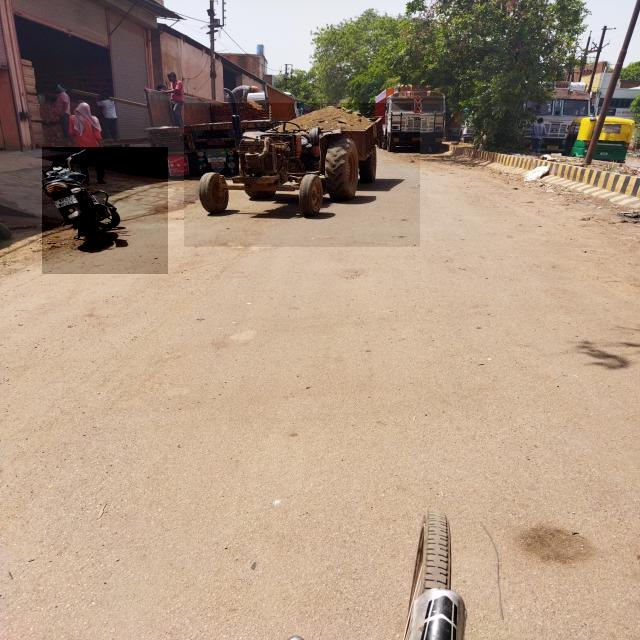Bike: (42, 147, 168, 274)
Tractot: (184, 104, 420, 248)
